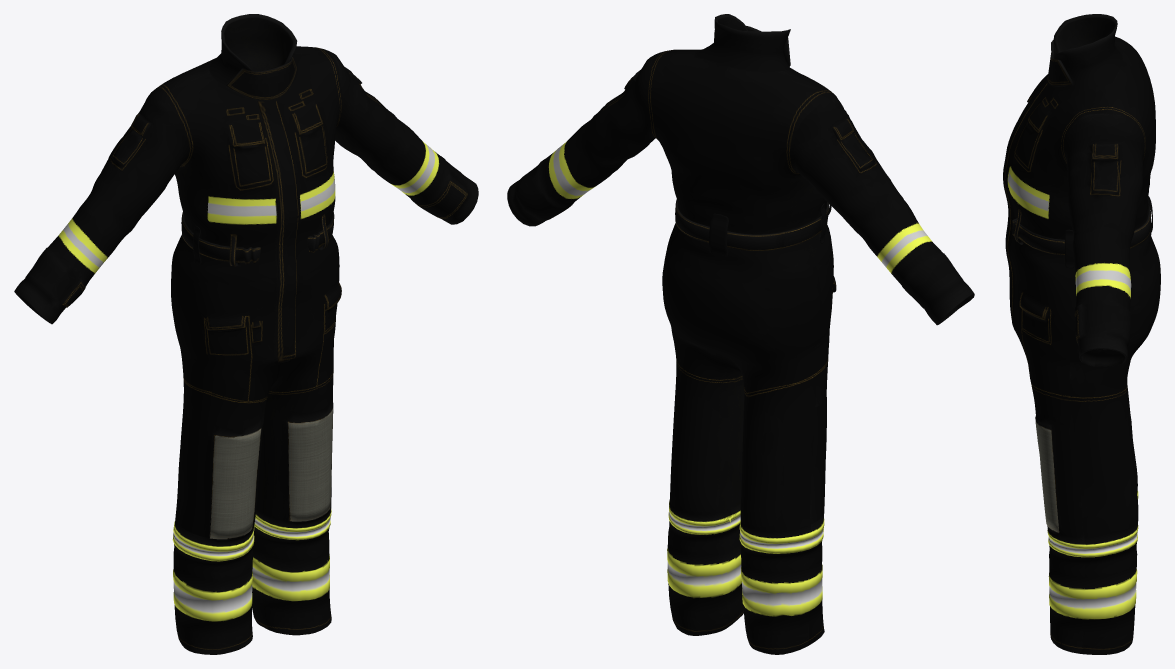
Rendered from only_Suit.fbx.
3 views of the same model, side by side, from view 1: azimuth 30°, elevation 25°; view 2: azimuth 150°, elevation 25°; view 3: azimuth 270°, elevation 25° (orthographic).
Parts seen in each view (by area): view 1: only_Suit; view 2: only_Suit; view 3: only_Suit.
Boxes of the visible parts, left/top/right/bottom form: only_Suit: left=14, top=14, right=478, bottom=654; only_Suit: left=507, top=14, right=974, bottom=654; only_Suit: left=1003, top=14, right=1160, bottom=654.
Size of the model in its own units: 1.16 by 1.49 by 0.3532.
